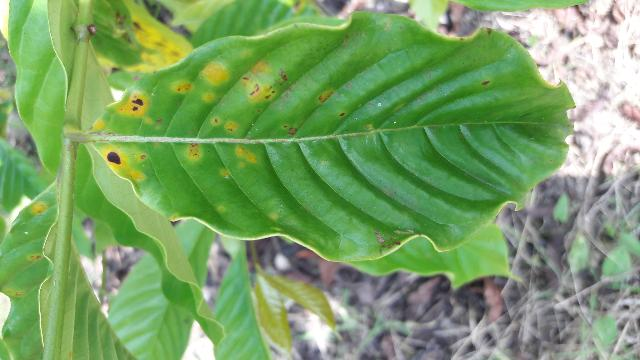rust_level_2: (92, 16, 569, 252)
